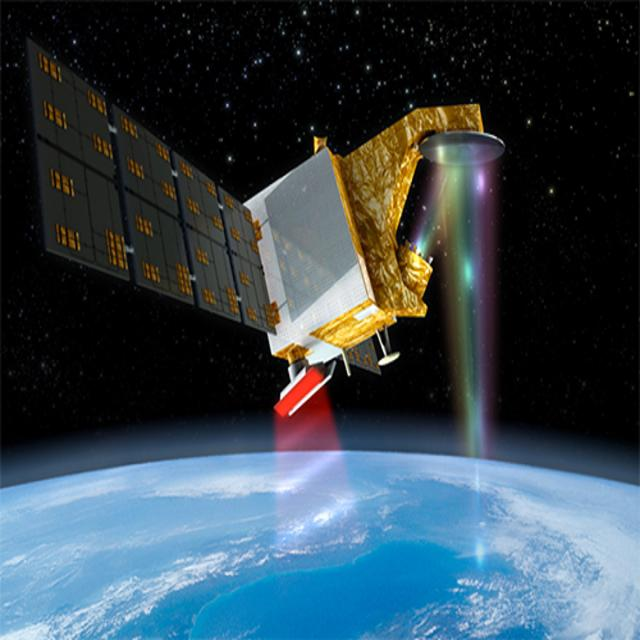satellite: (21, 2, 512, 434)
